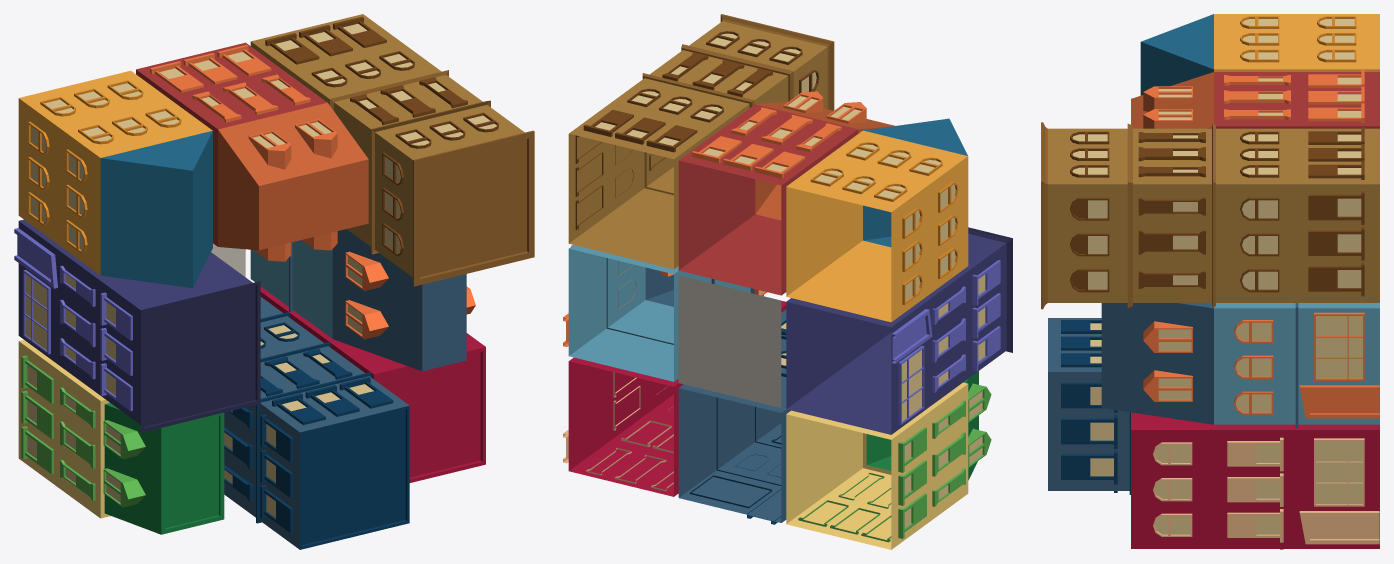
The model's file is MidHouse_02.fbx.
3 renders of one model, left to right at view 1: azimuth 30°, elevation 25°; view 2: azimuth 150°, elevation 25°; view 3: azimuth 270°, elevation 25°, orthographic. The views are drawn at different scales.
Visible parts, largest first — view 1: MidHouse_02; view 2: MidHouse_02; view 3: MidHouse_02.
Boxes of the visible parts, box(x1,y1,x2,y2) form: MidHouse_02: box(14, 14, 534, 549); MidHouse_02: box(563, 14, 1012, 549); MidHouse_02: box(1041, 14, 1379, 549).
Bounding box in the file's own units: 200 × 199 × 163.
